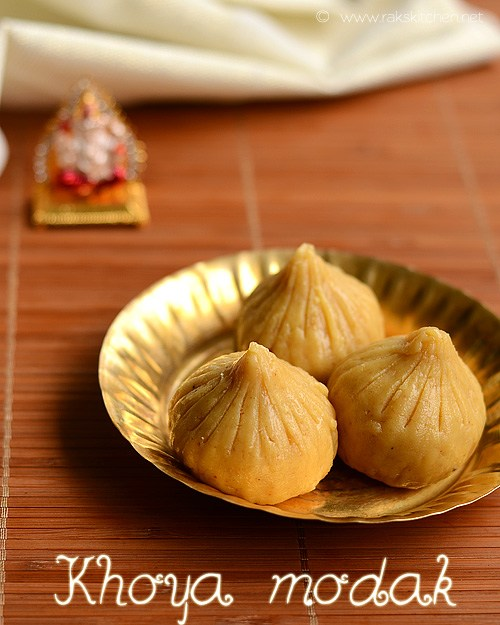modak: (156, 324, 341, 501), (333, 315, 486, 485), (234, 248, 401, 363)
